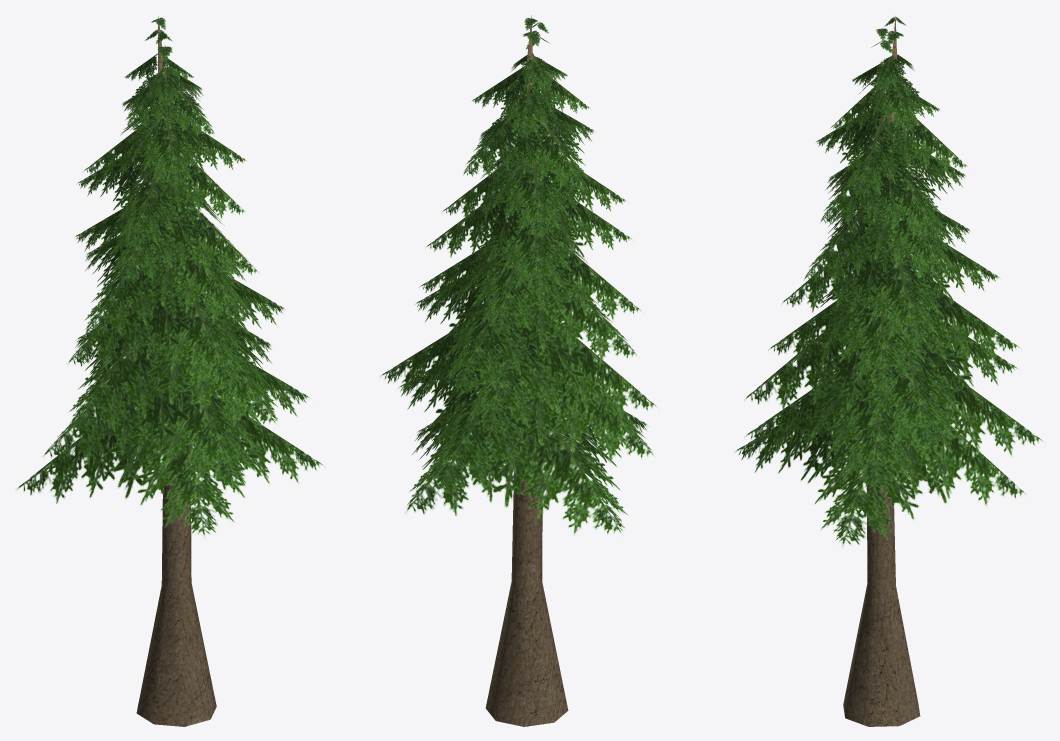
The model's file is fir_tree_a.glb.
3 views of the same model, side by side, from view 1: azimuth 30°, elevation 25°; view 2: azimuth 150°, elevation 25°; view 3: azimuth 270°, elevation 25° (orthographic).
Visible parts, largest first — view 1: fir_branch.png__, fir_bark.png__; view 2: fir_branch.png__, fir_bark.png__; view 3: fir_branch.png__, fir_bark.png__.
Part boxes in pixels (x1,y1,x2,y2): fir_branch.png__: (16, 17, 325, 538); fir_bark.png__: (136, 16, 216, 726); fir_branch.png__: (379, 17, 656, 535); fir_bark.png__: (485, 15, 568, 726); fir_branch.png__: (734, 17, 1042, 547); fir_bark.png__: (843, 16, 920, 726).
Bounding box in the file's own units: 5.01 × 11.76 × 5.03.
Materials: 2 (2 with a texture image).
